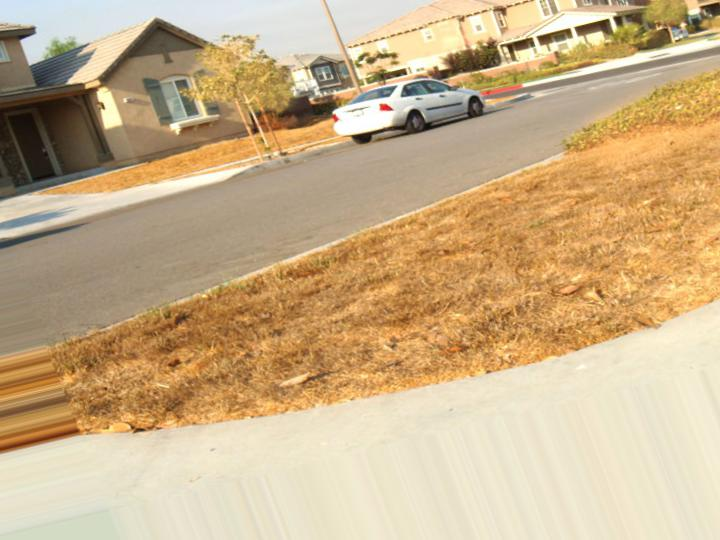patch: (145, 332, 285, 413), (282, 285, 425, 363), (418, 250, 548, 320), (510, 202, 647, 251), (602, 160, 683, 204)
